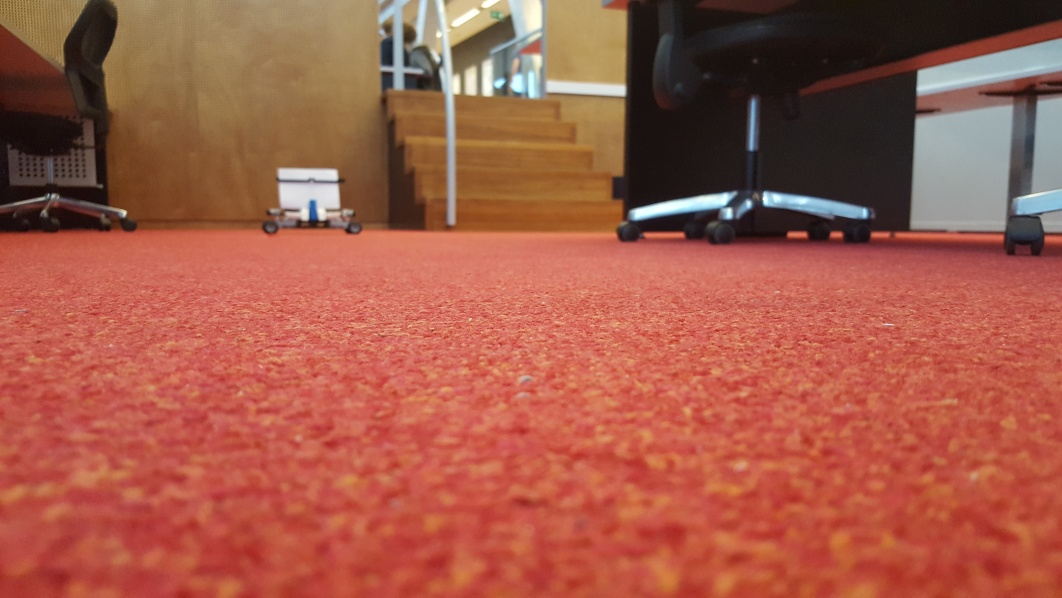car: (265, 162, 361, 235)
